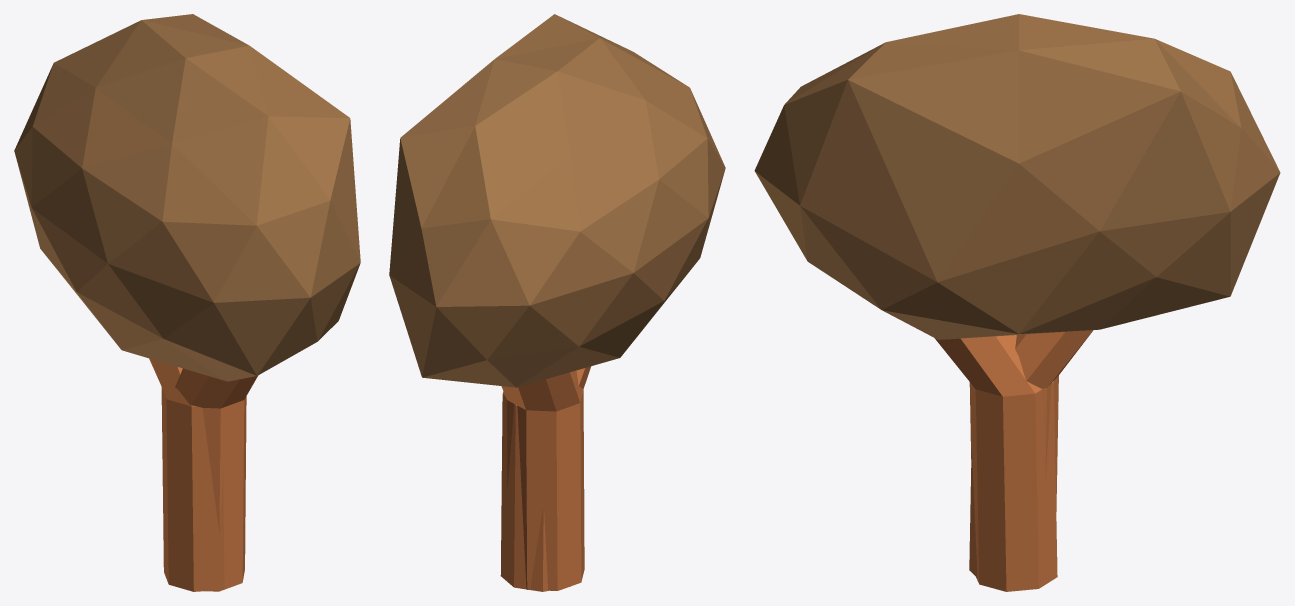
The model's file is TreeWithDoubleBranch2.fbx.
3 renders of one model, left to right at view 1: azimuth 30°, elevation 25°; view 2: azimuth 150°, elevation 25°; view 3: azimuth 270°, elevation 25°, orthographic. The views are drawn at different scales.
Visible parts, largest first — view 1: Icosphere, Cylinder.002, Cylinder.000; view 2: Icosphere, Cylinder.002, Cylinder.000; view 3: Icosphere, Cylinder.000, Cylinder.002.
Part boxes in pixels (x1=…): Icosphere: x1=14, y1=14, x2=360, y2=381; Cylinder.002: x1=149, y1=358, x2=235, y2=591; Cylinder.000: x1=175, y1=368, x2=258, y2=591; Icosphere: x1=389, y1=14, x2=725, y2=387; Cylinder.002: x1=501, y1=370, x2=584, y2=590; Cylinder.000: x1=500, y1=366, x2=590, y2=591; Icosphere: x1=754, y1=14, x2=1280, y2=339; Cylinder.000: x1=934, y1=335, x2=1057, y2=591; Cylinder.002: x1=969, y1=330, x2=1093, y2=577.
Bounding box in the file's own units: 263 × 564 × 488.
